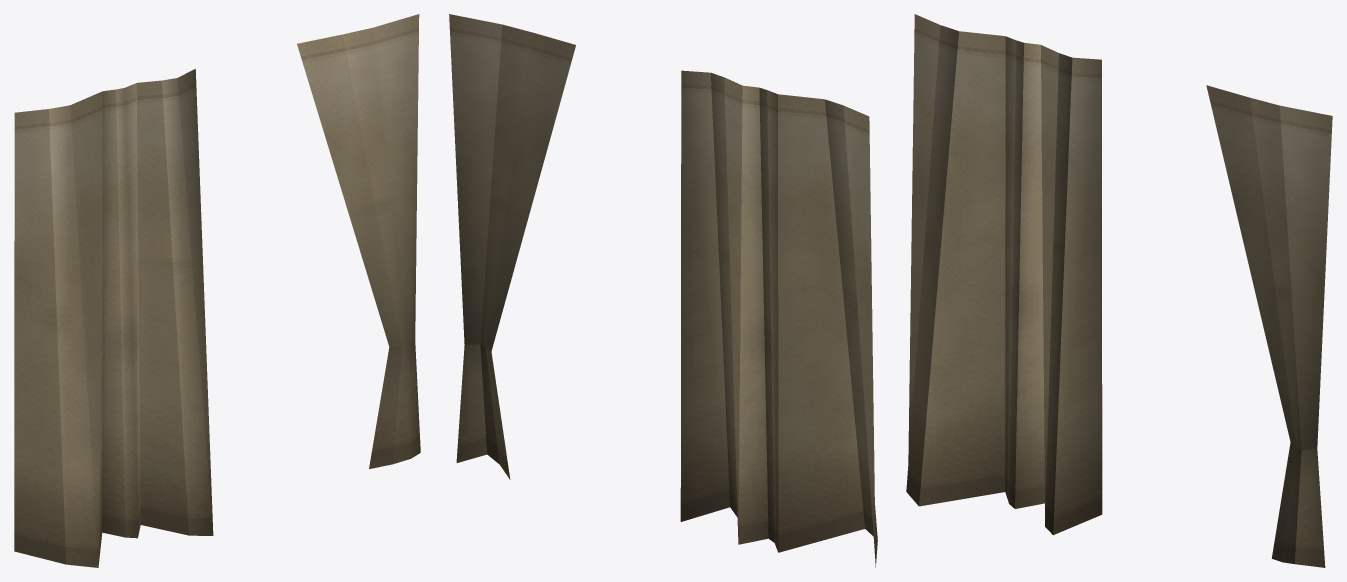
The model's file is prop_curtain-half-2.glb.
3 views of the same model, side by side, from view 1: azimuth 30°, elevation 25°; view 2: azimuth 150°, elevation 25°; view 3: azimuth 330°, elevation 25° (orthographic). The views are drawn at different scales.
Visible parts, largest first — view 1: prop_curtain-half-2; view 2: prop_curtain-half-2; view 3: prop_curtain-half-2.
Part boxes in pixels (x1=…): prop_curtain-half-2: x1=14, y1=14, x2=420, y2=567; prop_curtain-half-2: x1=449, y1=14, x2=877, y2=567; prop_curtain-half-2: x1=906, y1=14, x2=1332, y2=567.
Bounding box in the file's own units: 1.73 × 1.79 × 0.2929.
Materials: 1 (1 with a texture image).
